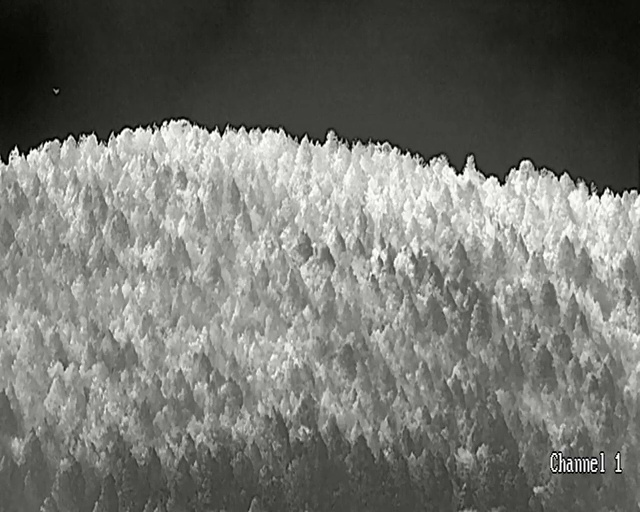uav: (52, 88, 58, 93)
